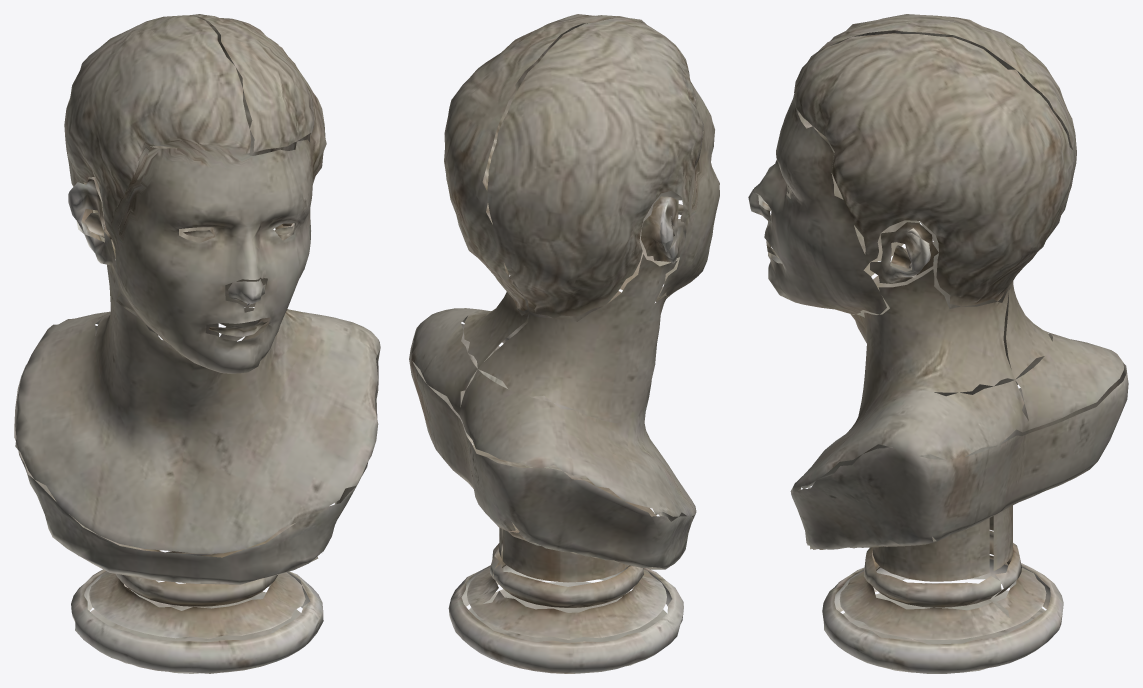
Rendered from marble_bust.glb.
3 renders of one model, left to right at view 1: azimuth 30°, elevation 25°; view 2: azimuth 150°, elevation 25°; view 3: azimuth 270°, elevation 25°, orthographic. The views are drawn at different scales.
Visible parts, largest first — view 1: marble_bust_01; view 2: marble_bust_01; view 3: marble_bust_01.
Part boxes in pixels (x1=…): marble_bust_01: x1=14, y1=14, x2=380, y2=673; marble_bust_01: x1=409, y1=14, x2=719, y2=673; marble_bust_01: x1=748, y1=14, x2=1128, y2=673.
Size of the model in its own units: 0.2717 by 0.5149 by 0.2964.
1 material, 1 textured.
